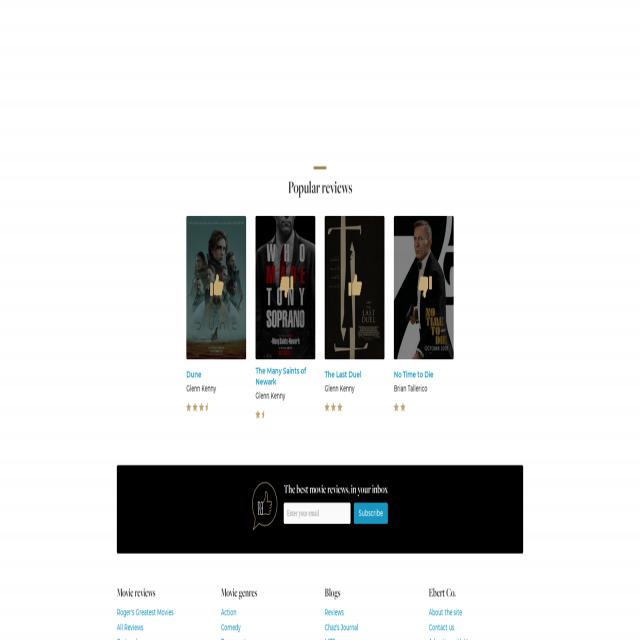button: (186, 216, 246, 359), (256, 216, 316, 359), (325, 216, 385, 359), (394, 216, 454, 359), (252, 483, 278, 531), (354, 502, 388, 524)
field: (284, 502, 350, 524)
